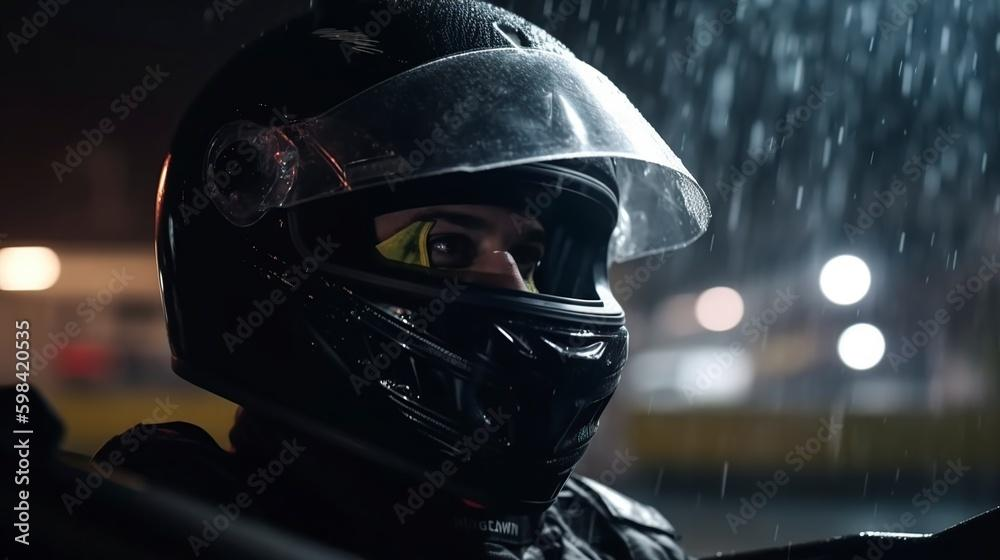helmet: (151, 0, 715, 520)
